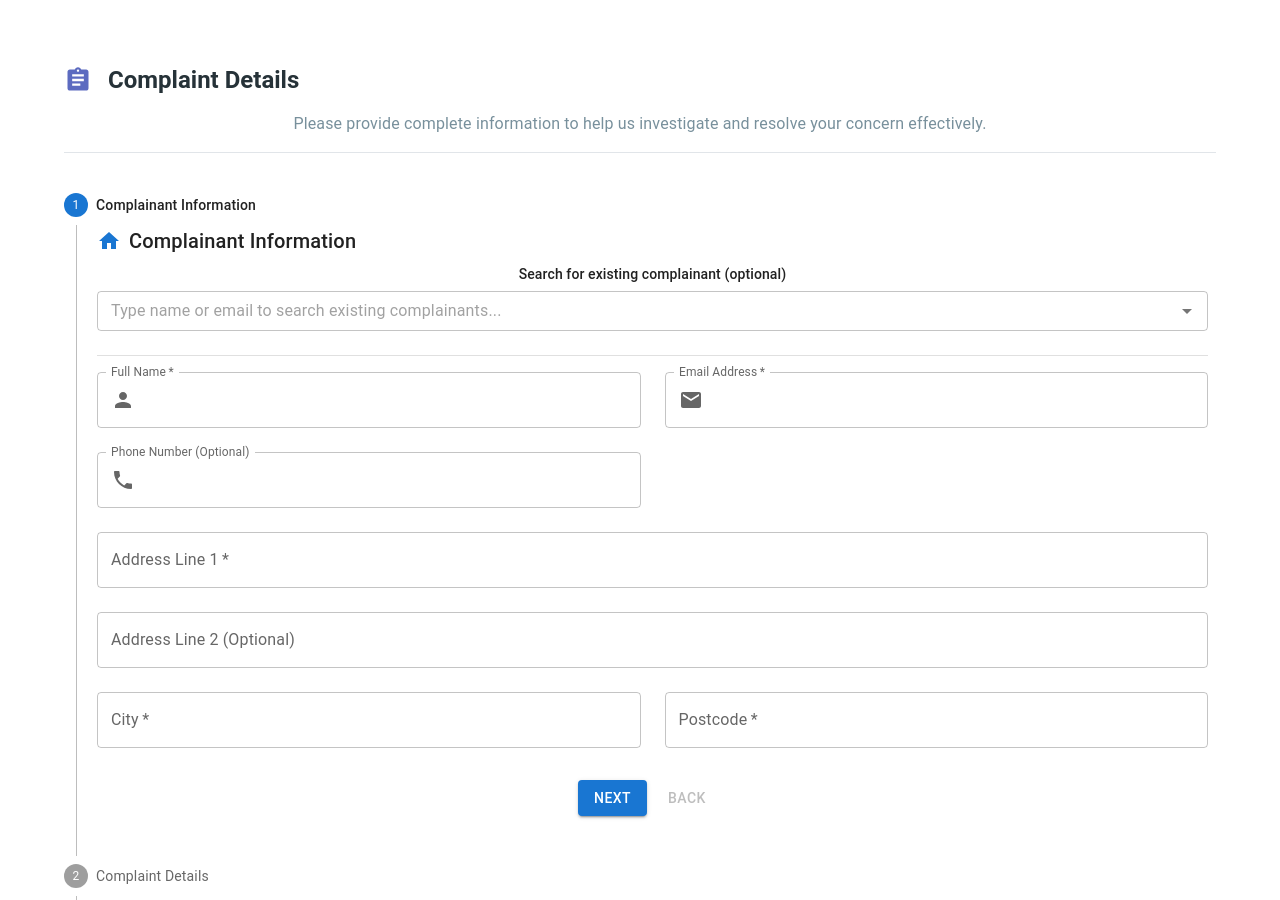
Scenario: ComplaintForm › should show form validation errors
Expected: the heading "Complaint Details" is shown, [108,64,299,96]
# Try to click Next without filling required fields
Click the button "Next" at (612, 798), box [578,780,647,816]
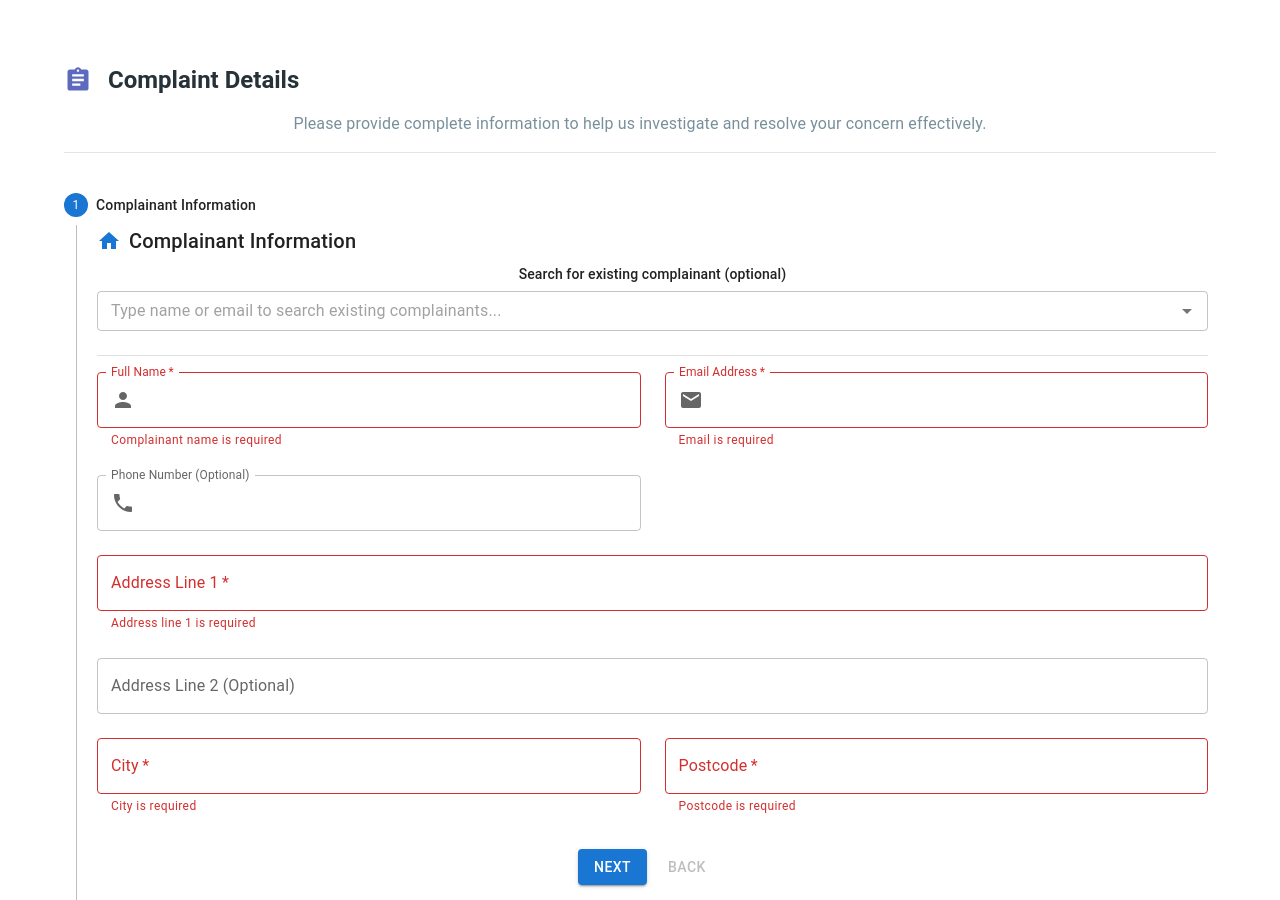
Now the text "Complainant name is required" is shown, box [111,433,282,447]
